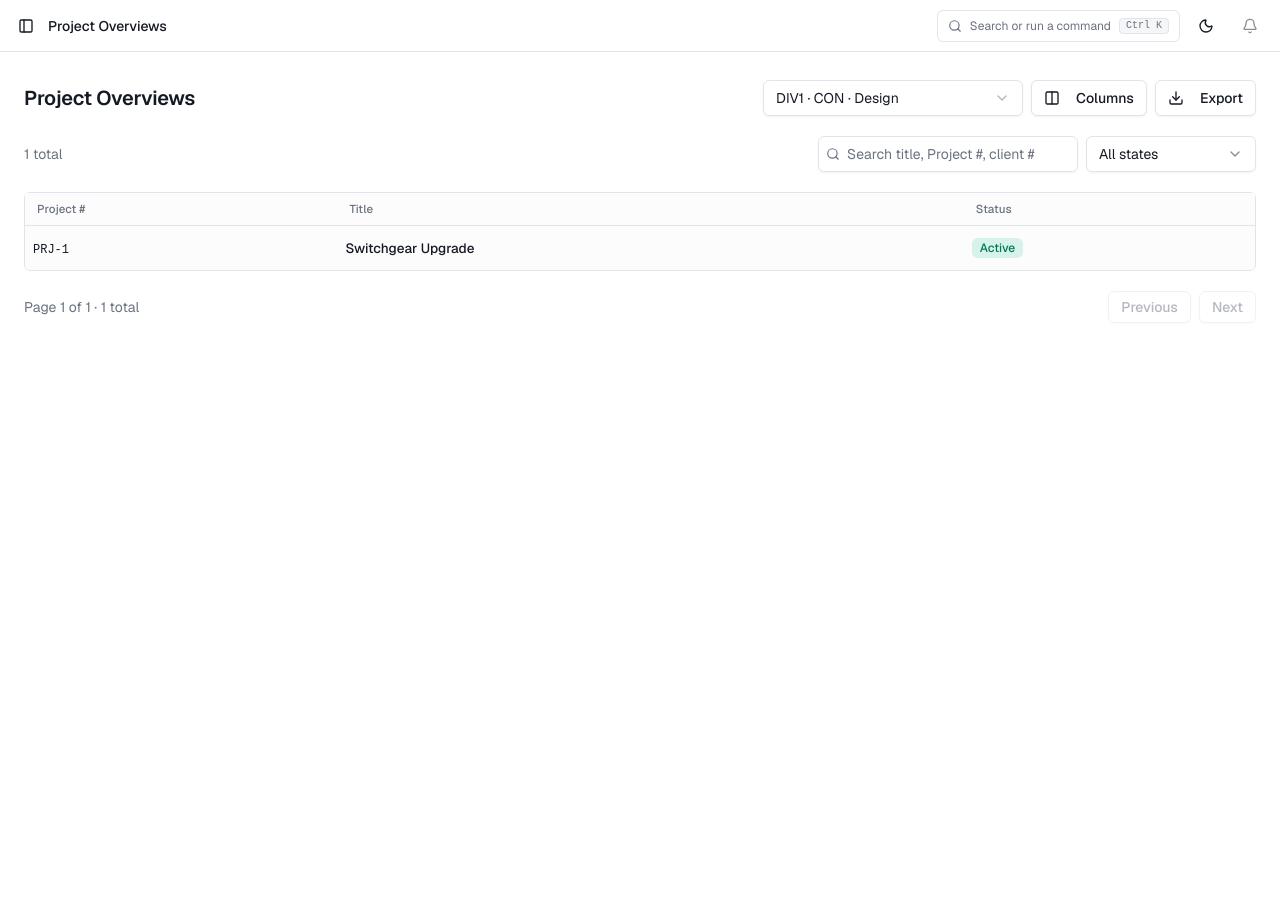
ProjectsViewPage › opens the peek panel on row click instead of navigating away
The width and height of the screenshot is (1280, 900).
Expected: the link "open full project" is not shown
Click the text "Switchgear Upgrade" at (410, 248), box [345,238,474,256]
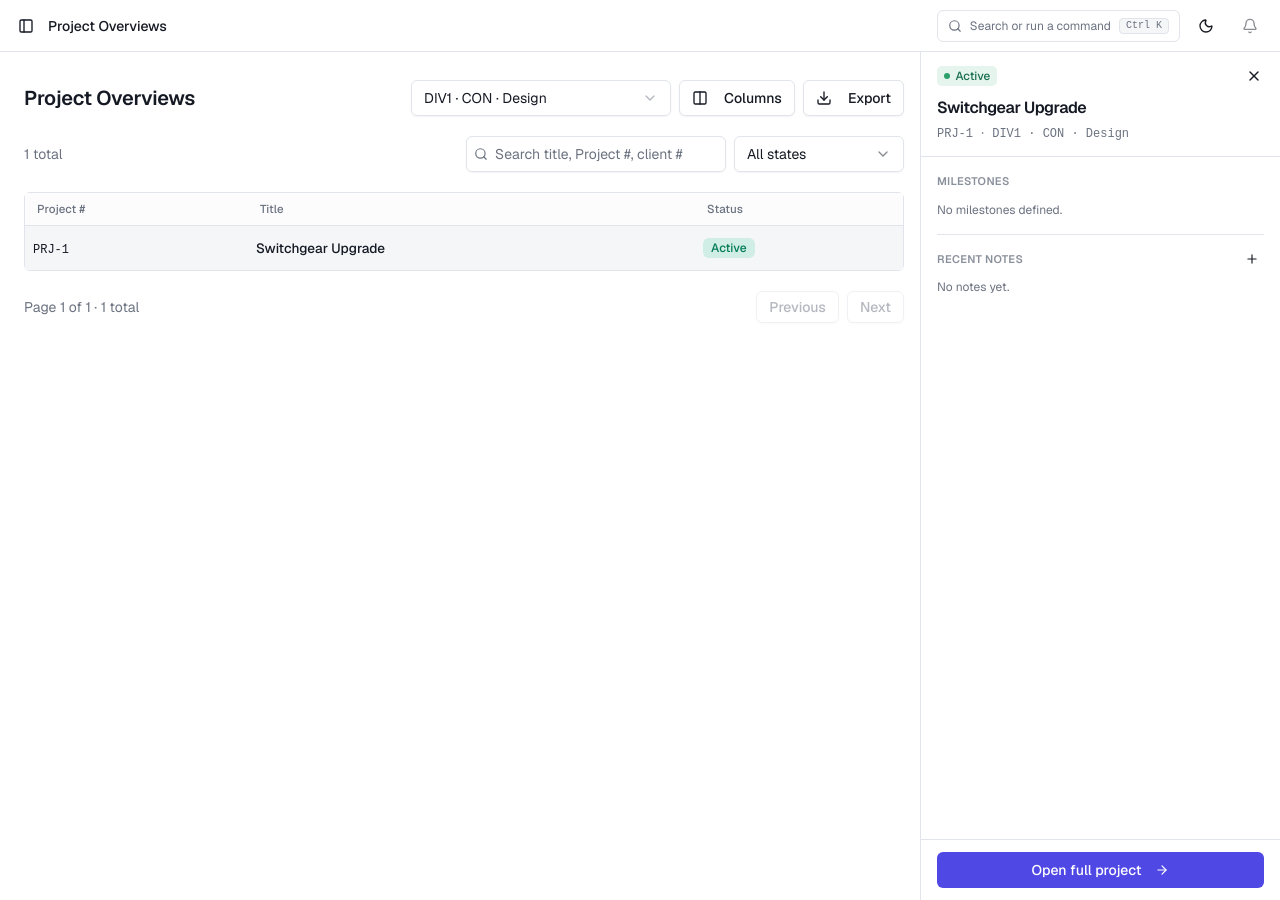
Expected: the link "Open full project" is shown, [937,852,1264,888]
